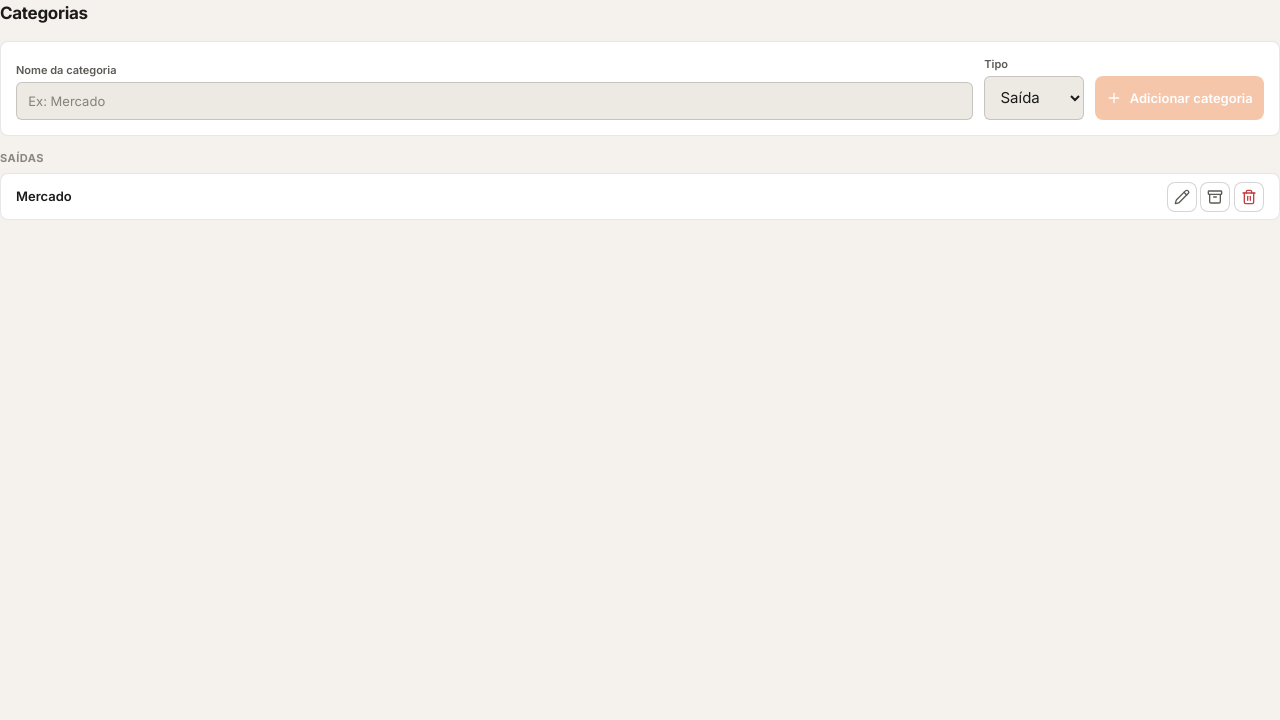
it: FinanceCategoryManager › disables saving the rename while the name is empty
Click the button named "Renomear Mercado".
click(1182, 196)  # box [1166,182,1196,212]
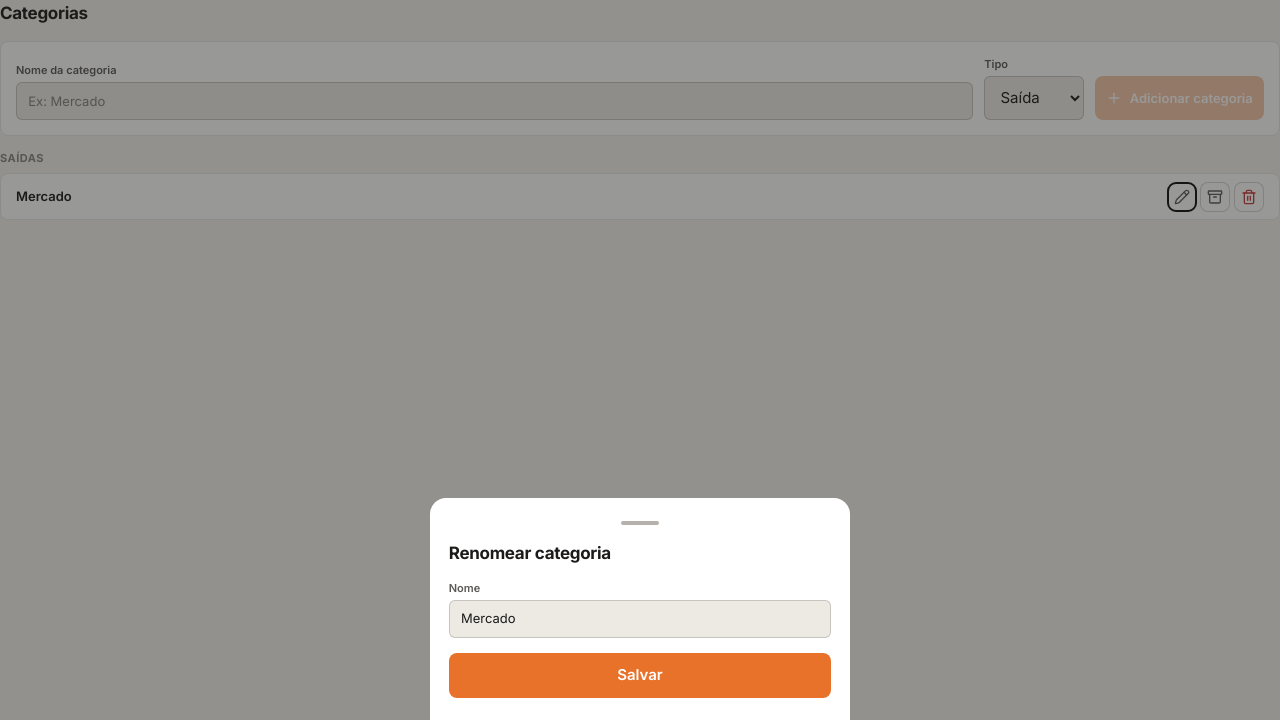
Clear the field labelled "Nome" at {"x": 640, "y": 618}, box [449,600,831,638]
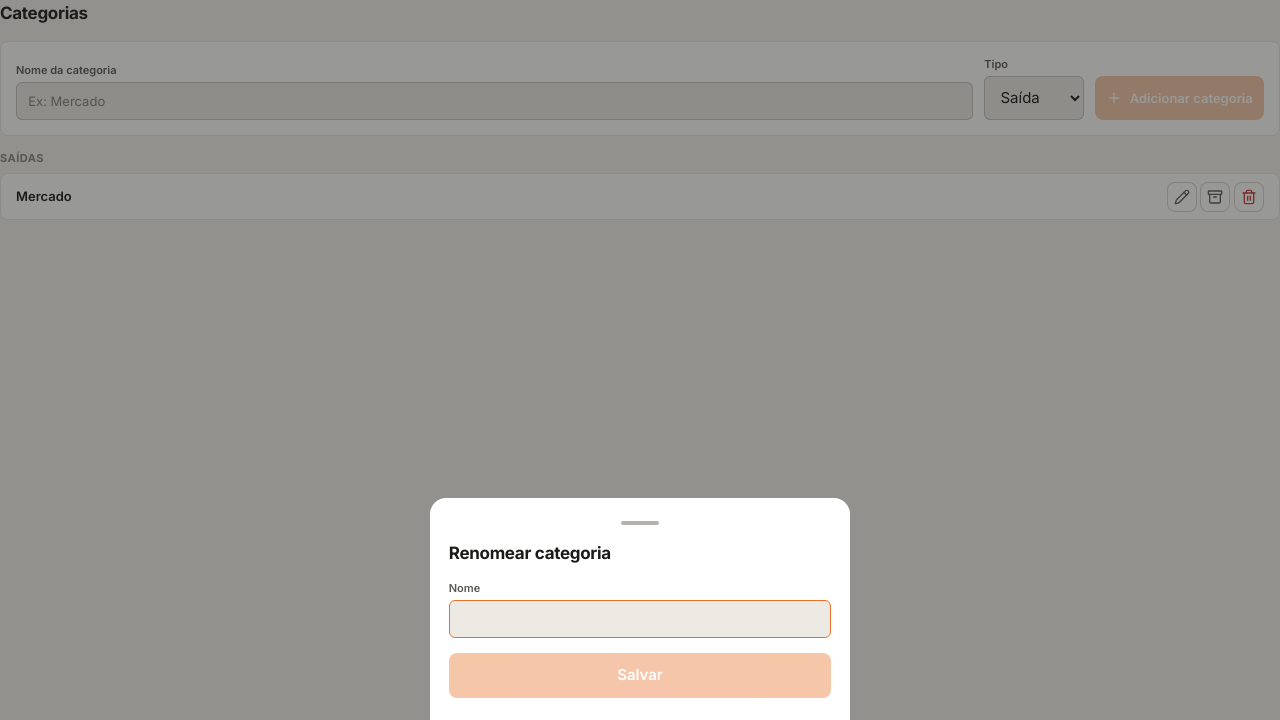
Result: the button "Salvar" is disabled at [449,652,831,698]
